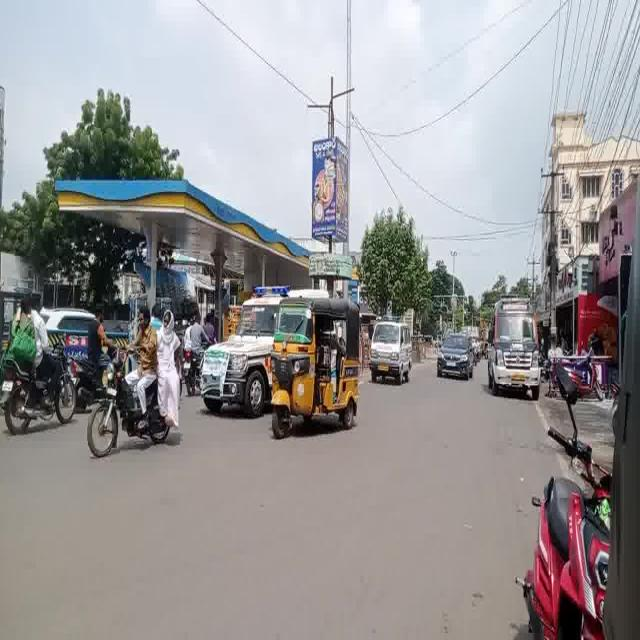ambulance: (190, 272, 274, 398), (489, 289, 545, 412)
